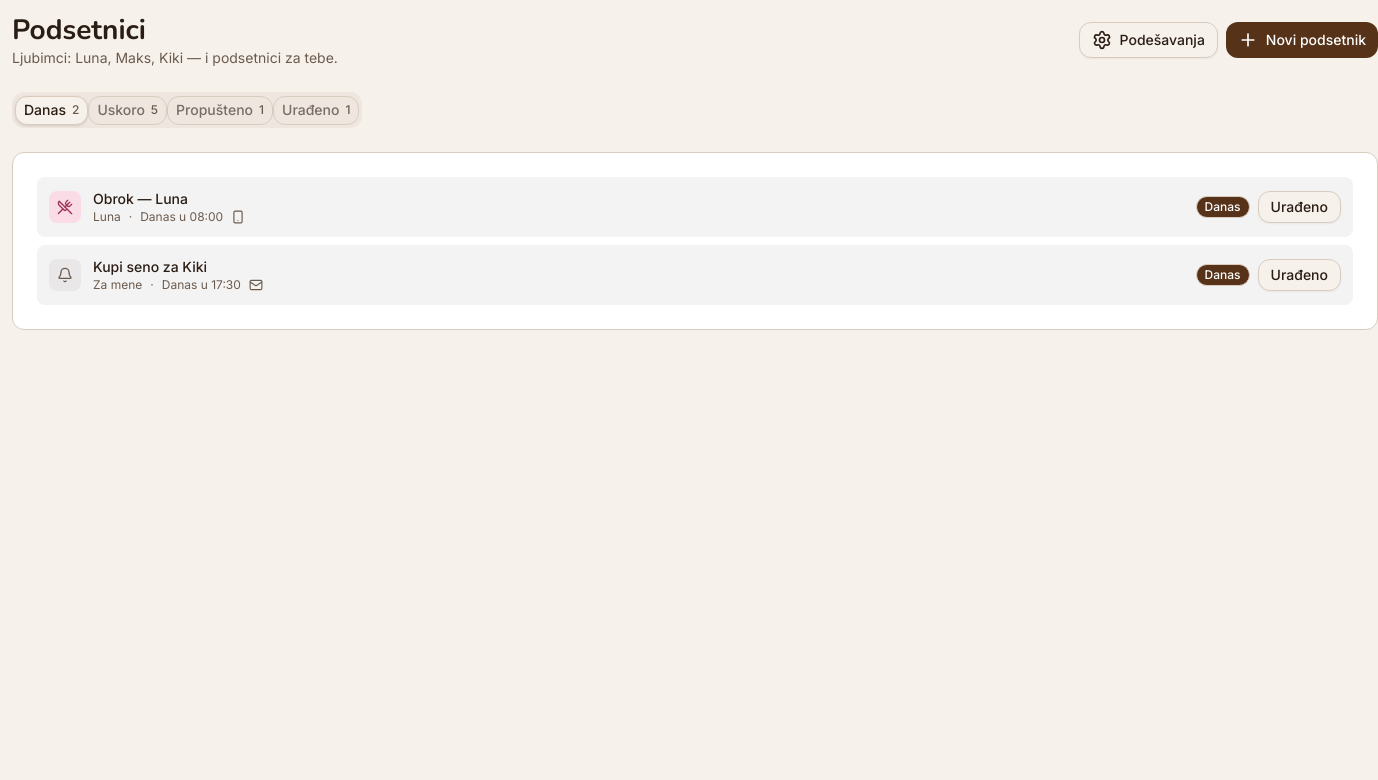
S10 — CR-12 edit link › manual rows link to /podsetnici/[reminder_id]; generated rows have no link
Click the tab "Uskoro 5" at (128, 110), box top-left (88, 96), bottom-right (167, 124)
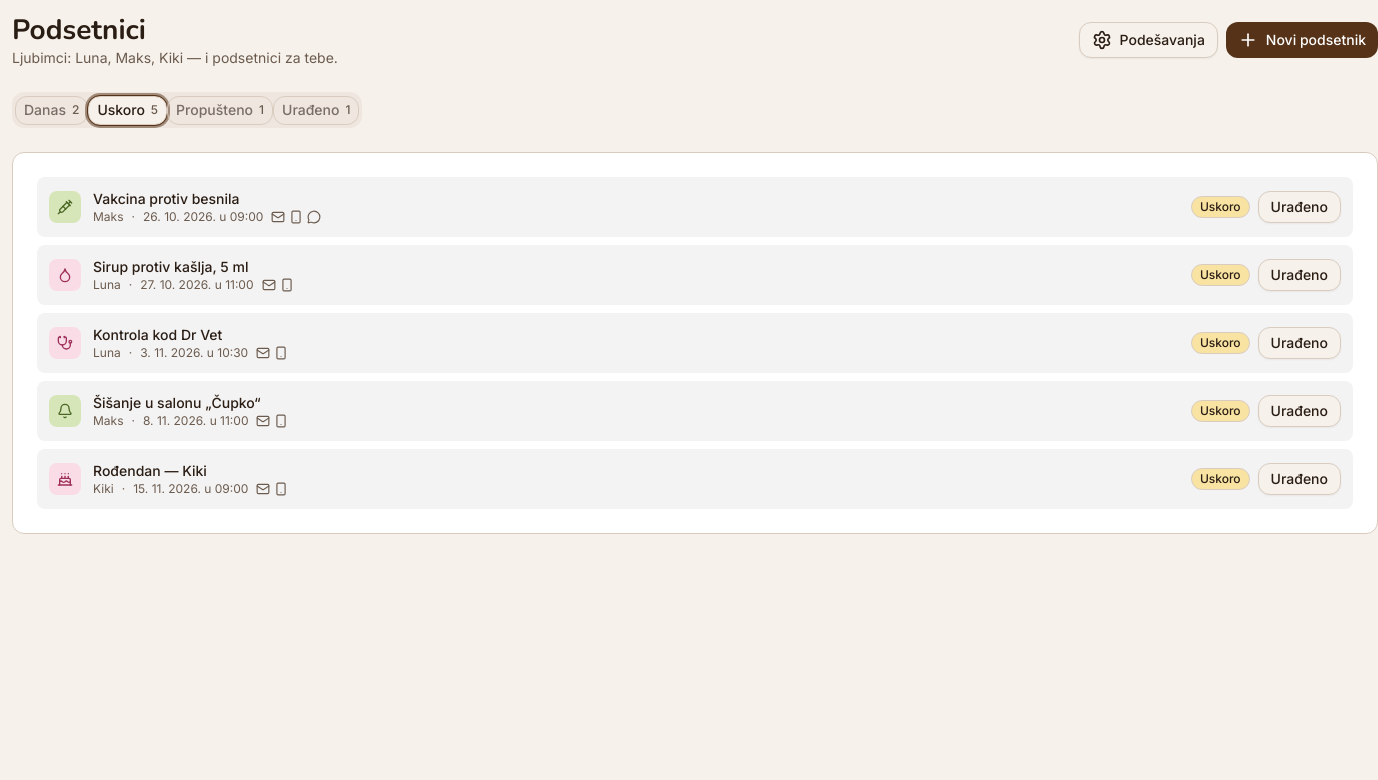
Result: the text "Vakcina protiv besnila" is shown at top-left (93, 190), bottom-right (240, 207)
Result: the text "Sirup protiv kašlja, 5 ml" is shown at top-left (93, 258), bottom-right (248, 275)
Result: the text "Kontrola kod Dr Vet" is shown at top-left (93, 326), bottom-right (222, 343)
